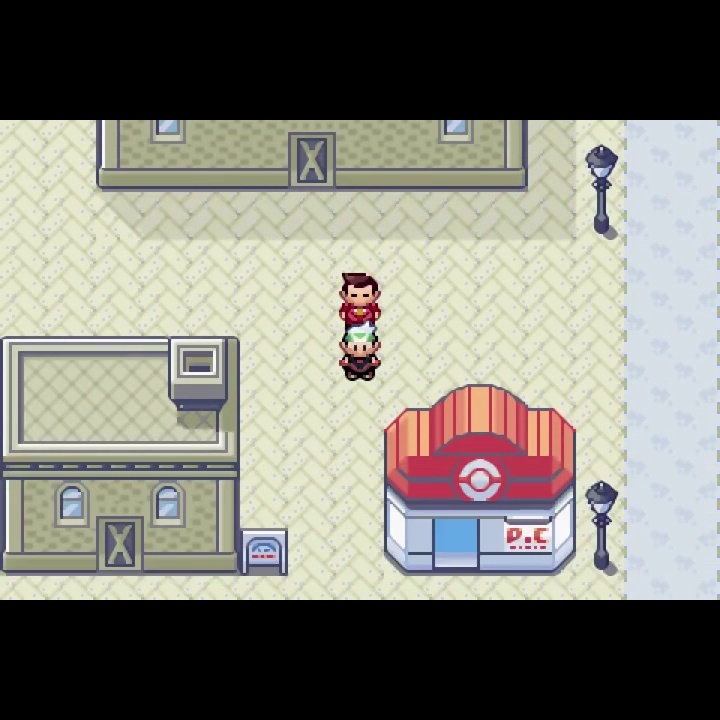house: (1, 334, 242, 576), (93, 120, 531, 192)
npc: (337, 321, 382, 384), (336, 268, 382, 329)
pokecen: (380, 381, 579, 578)
